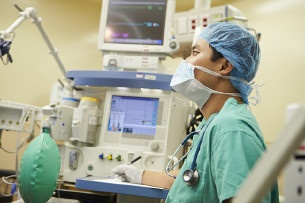Mask: (170, 44, 224, 98)
